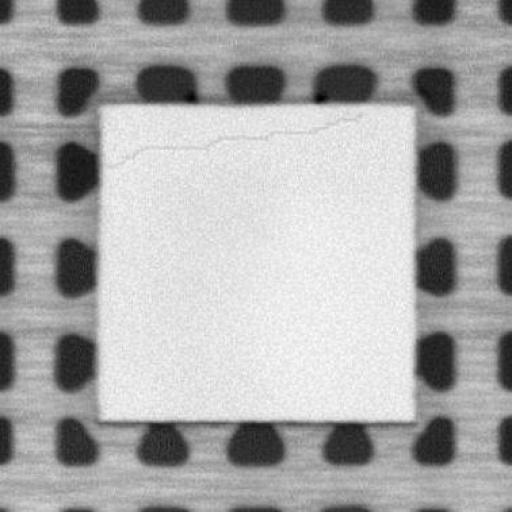DIE_CRACK: (112, 112, 359, 169)
